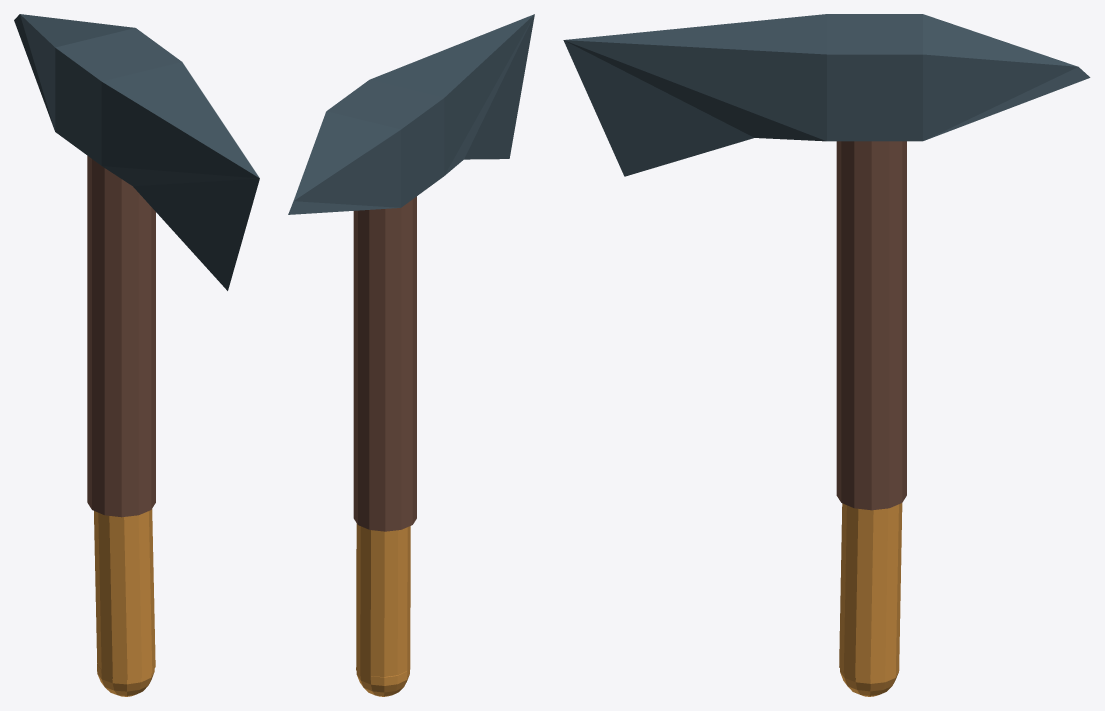
Rendered from axe---hatchet-by-lewis-gardner-b0E0vZHZrKi.glb.
The picture shows the model from 3 angles, left to right: view 1: azimuth 30°, elevation 25°; view 2: azimuth 150°, elevation 25°; view 3: azimuth 270°, elevation 25°; orthographic projection. The views are drawn at different scales.
Visible parts, largest first — view 1: group1736064932; view 2: group1736064932; view 3: group1736064932.
Boxes of the visible parts, x1,y1,x2,y2 form: group1736064932: (14,14,259,696); group1736064932: (288,14,534,696); group1736064932: (563,14,1090,696).
Bounding box in the file's own units: 0.1 × 0.757 × 0.55.
